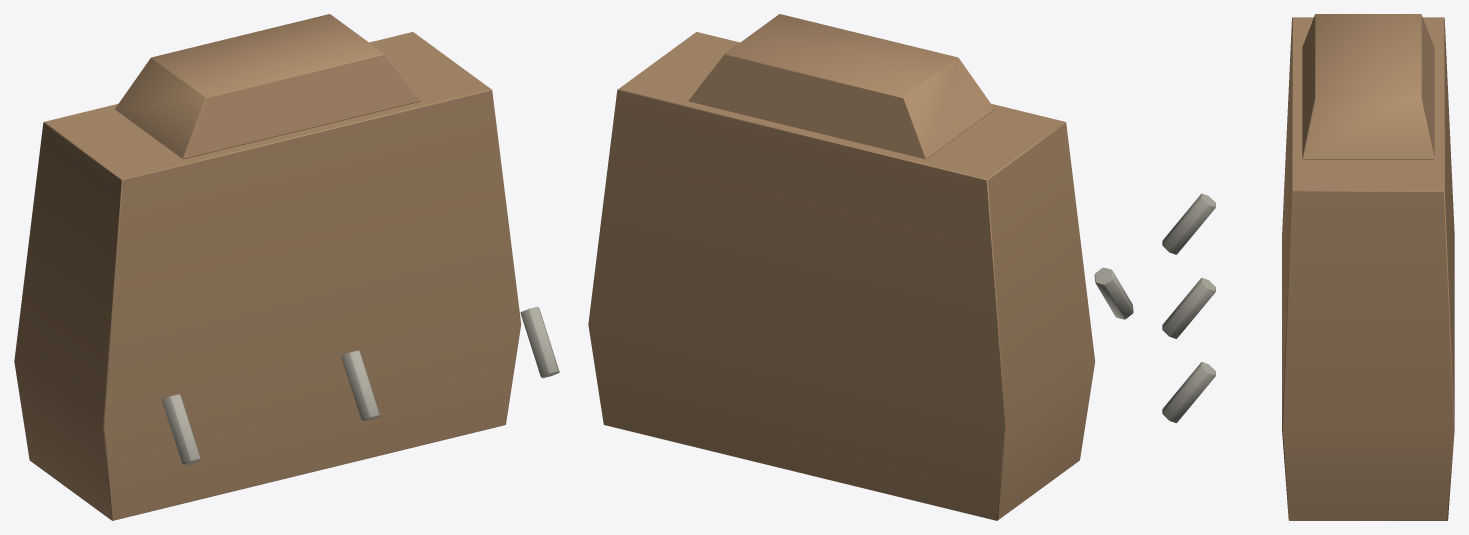
Rendered from IT_hide_vest.fbx.
The picture shows the model from 3 angles, left to right: view 1: azimuth 30°, elevation 25°; view 2: azimuth 150°, elevation 25°; view 3: azimuth 270°, elevation 25°; orthographic projection. The views are drawn at different scales.
Visible parts, largest first — view 1: IT_hide_vest; view 2: IT_hide_vest; view 3: IT_hide_vest.
Part boxes in pixels (x1,y1,x2,y2): IT_hide_vest: [14, 14, 559, 520]; IT_hide_vest: [588, 14, 1133, 520]; IT_hide_vest: [1162, 14, 1454, 520].
Bounding box in the file's own units: 0.7 × 0.62 × 0.4404.
